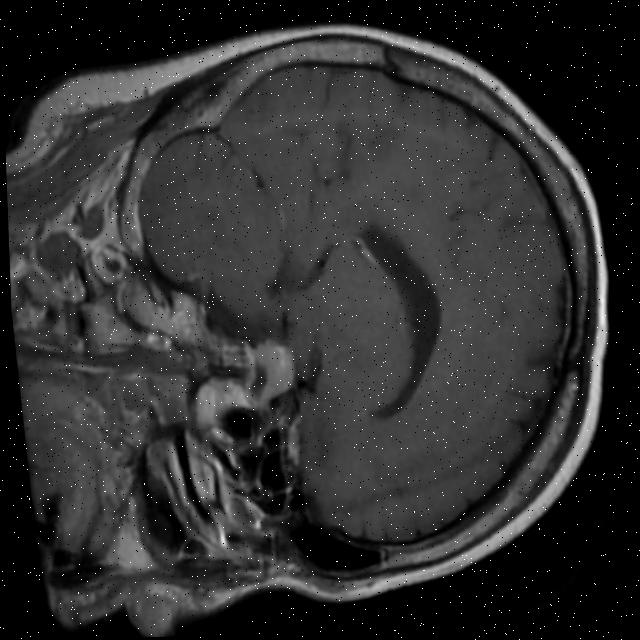Pituitary: (249, 338, 297, 399)
